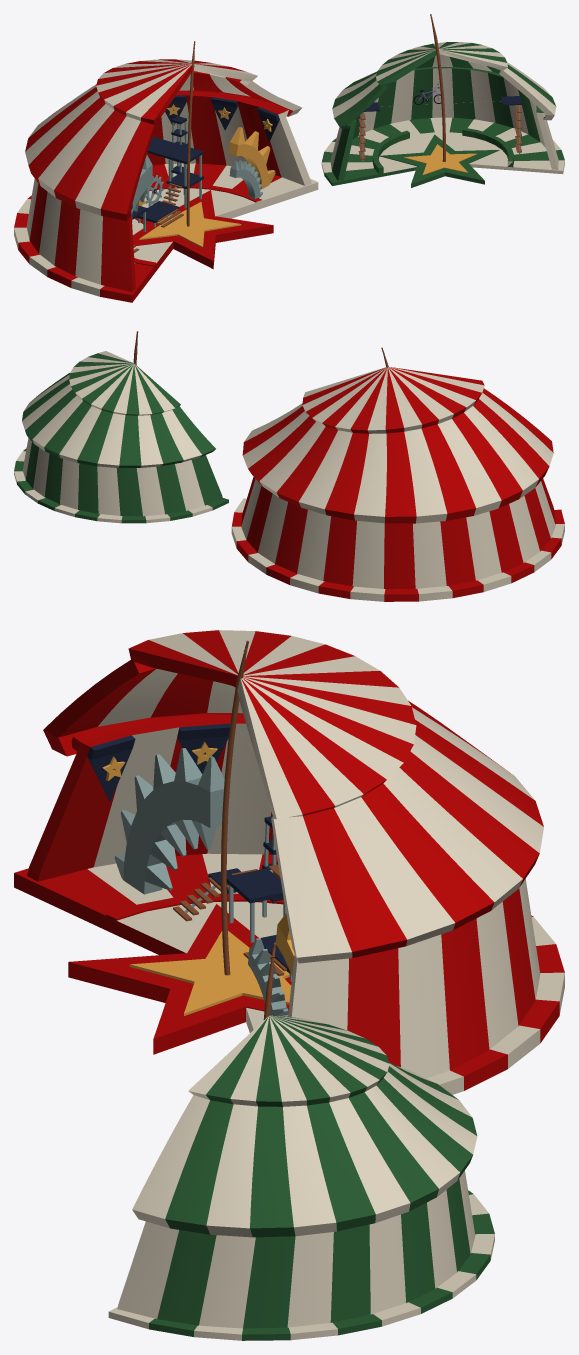
File: F_Circus_01.fbx
3 views of the same model, one above another, from view 1: azimuth 30°, elevation 25°; view 2: azimuth 150°, elevation 25°; view 3: azimuth 270°, elevation 25° (orthographic). The views are drawn at different scales.
Visible parts, largest first — view 1: F_Circus_01; view 2: F_Circus_01; view 3: F_Circus_01.
Boxes of the visible parts, <box> form: F_Circus_01: <box>14,14,564,302</box>; F_Circus_01: <box>14,331,564,601</box>; F_Circus_01: <box>14,630,564,1340</box>.
Size of the model in its own units: 6466 by 2247 by 3084.
1 material, 1 textured.
